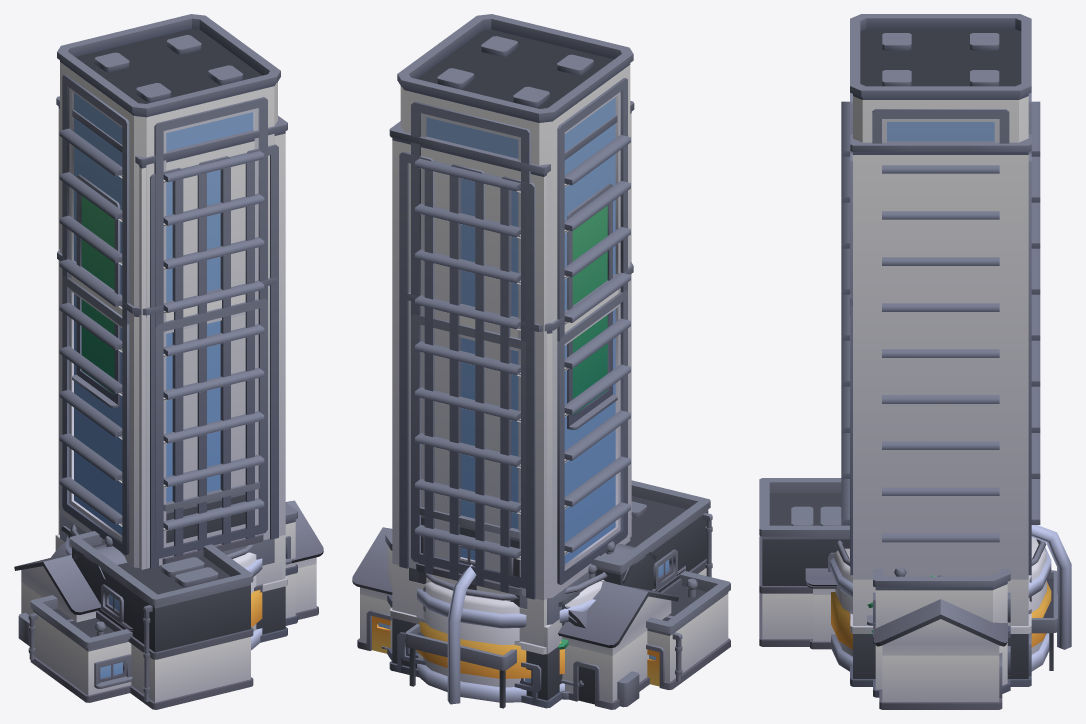
The model's file is city-D2vX3C_w.glb.
The picture shows the model from 3 angles, left to right: view 1: azimuth 30°, elevation 25°; view 2: azimuth 150°, elevation 25°; view 3: azimuth 270°, elevation 25°; orthographic projection. The views are drawn at different scales.
Visible parts, largest first — view 1: building-skyscraper-b, building-skyscraper-e, building-o, building-skyscraper-a, building-h, building-s, building-d, detail-tank-large, building-e, building-j; view 2: building-skyscraper-b, building-skyscraper-e, building-skyscraper-a, building-s, detail-tank-large, building-o, building-h, building-d, building-j, building-e; view 3: building-skyscraper-e, building-skyscraper-b, building-s, building-o, building-e, detail-tank-large, building-skyscraper-a, building-j, building-d.
Part boxes in pixels (x1,y1,x2,y2): building-skyscraper-b: (55,14,282,634); building-skyscraper-e: (56,96,287,636); building-o: (69,531,253,709); building-skyscraper-a: (57,249,283,642); building-h: (28,595,133,702); building-s: (14,500,323,645); building-d: (162,481,263,592); detail-tank-large: (65,524,262,650); building-e: (285,502,297,625); building-j: (50,538,133,631); building-skyscraper-b: (397,14,633,701); building-skyscraper-e: (389,101,634,707); building-skyscraper-a: (401,262,633,708); building-s: (352,527,678,709); detail-tank-large: (415,564,607,704); building-o: (591,480,712,594); building-h: (646,566,730,689); building-d: (405,507,521,708); building-j: (564,544,685,628); building-e: (385,529,579,686); building-skyscraper-e: (850,134,1031,686); building-skyscraper-b: (841,14,1040,676); building-s: (873,574,1007,709); building-o: (759,478,849,646); building-e: (867,567,1010,697); detail-tank-large: (830,525,1071,671); building-skyscraper-a: (841,294,1040,683); building-j: (805,568,836,649); building-d: (850,560,1057,670).
Size of the model in its own units: 2.29 by 4.48 by 2.13.
3 materials, 3 textured.
